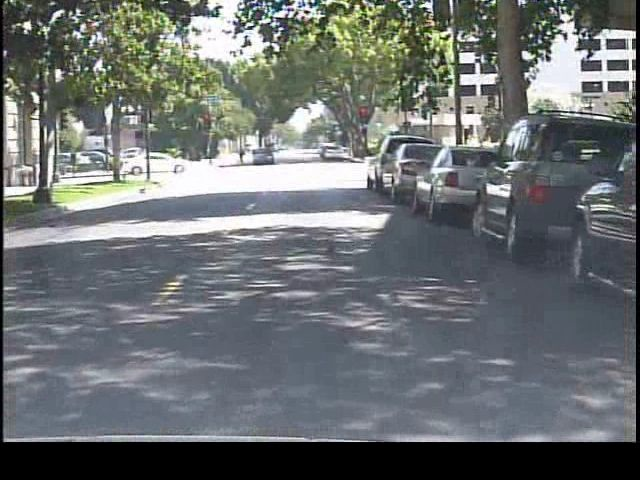person: (237, 141, 252, 166)
